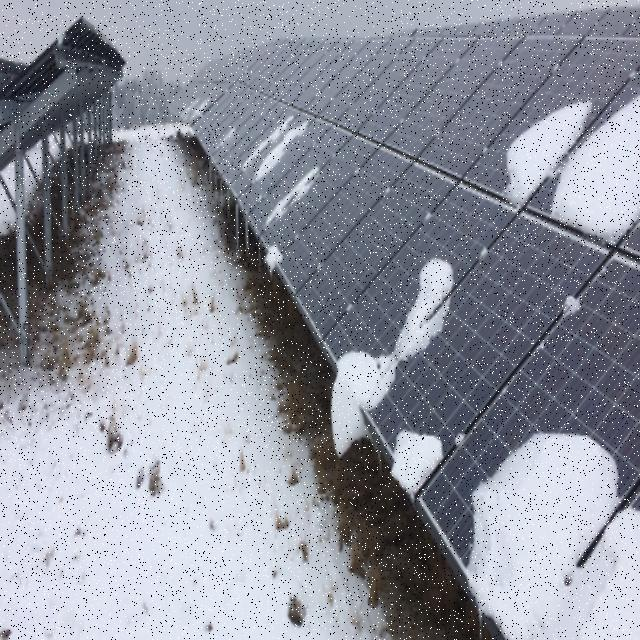snow covered: (319, 0, 635, 640)
